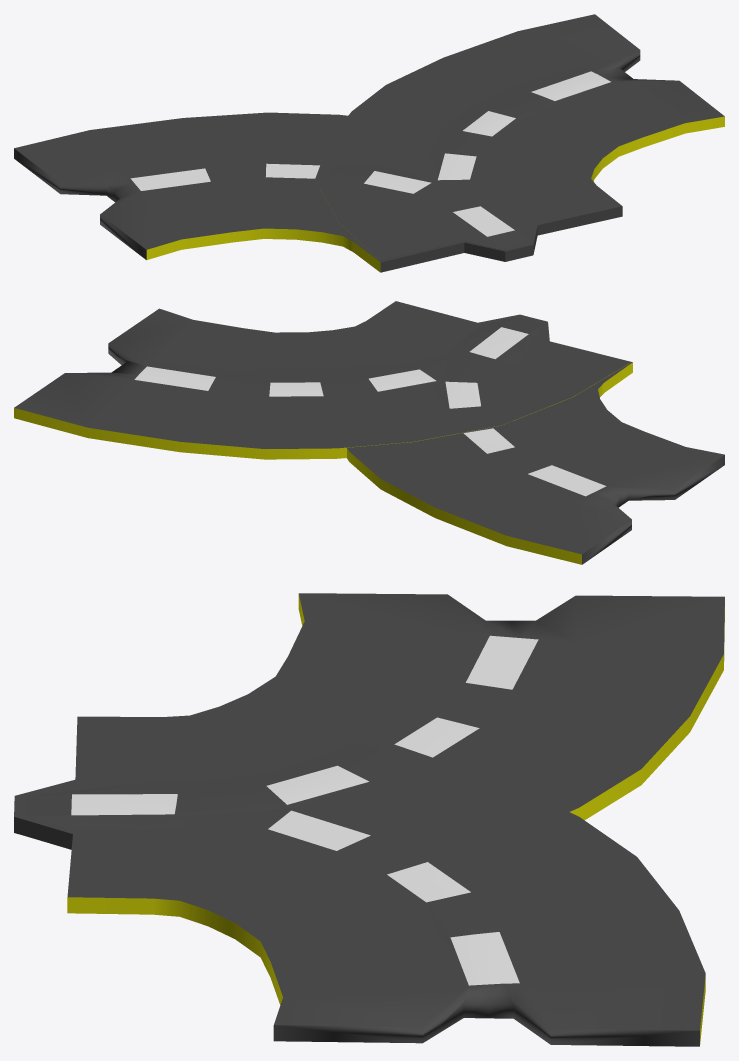
The model's file is Split Track Piece 2.fbx.
3 renders of one model, top to bottom at view 1: azimuth 30°, elevation 25°; view 2: azimuth 150°, elevation 25°; view 3: azimuth 270°, elevation 25°, orthographic. The views are drawn at different scales.
Parts seen in each view (by area): view 1: straight_piece23, straight_piece22; view 2: straight_piece23, straight_piece22; view 3: straight_piece23, straight_piece22.
Boxes of the visible parts, box(x1,y1,x2,y2) form: straight_piece23: box(316, 14, 724, 260); straight_piece22: box(14, 112, 533, 272); straight_piece23: box(14, 301, 629, 459); straight_piece22: box(347, 317, 724, 564); straight_piece23: box(14, 717, 705, 1046); straight_piece22: box(14, 593, 724, 833).
Size of the model in its own units: 20.71 by 0.405 by 14.22.
